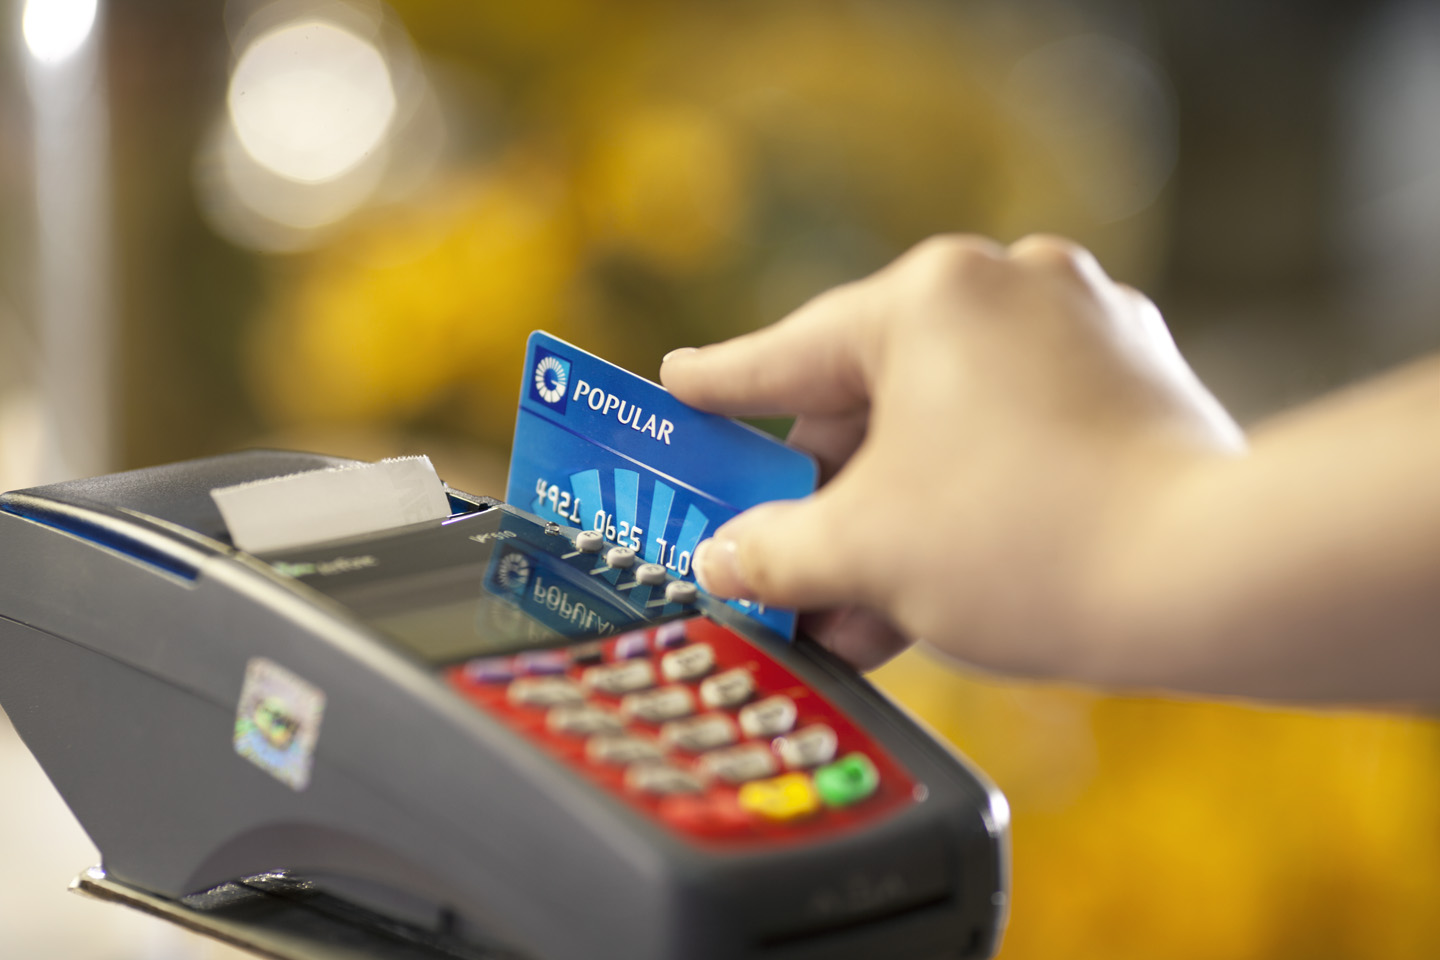tarjeta: (504, 330, 824, 640)
